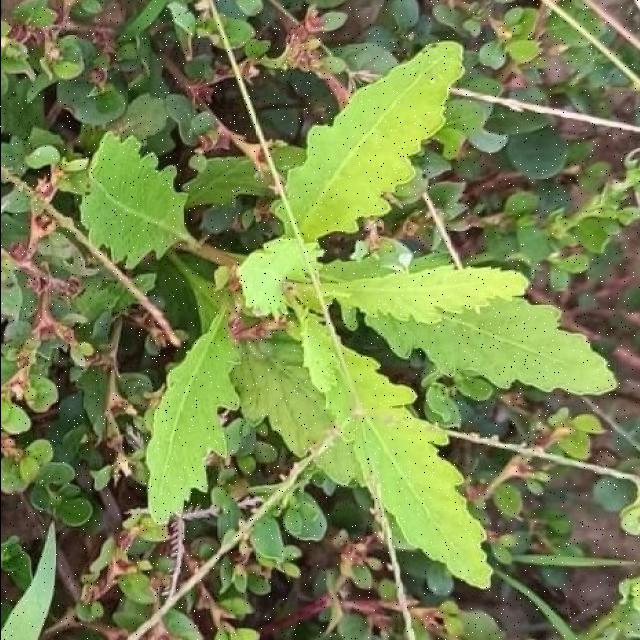weed: (144, 44, 614, 589), (78, 136, 186, 266)
